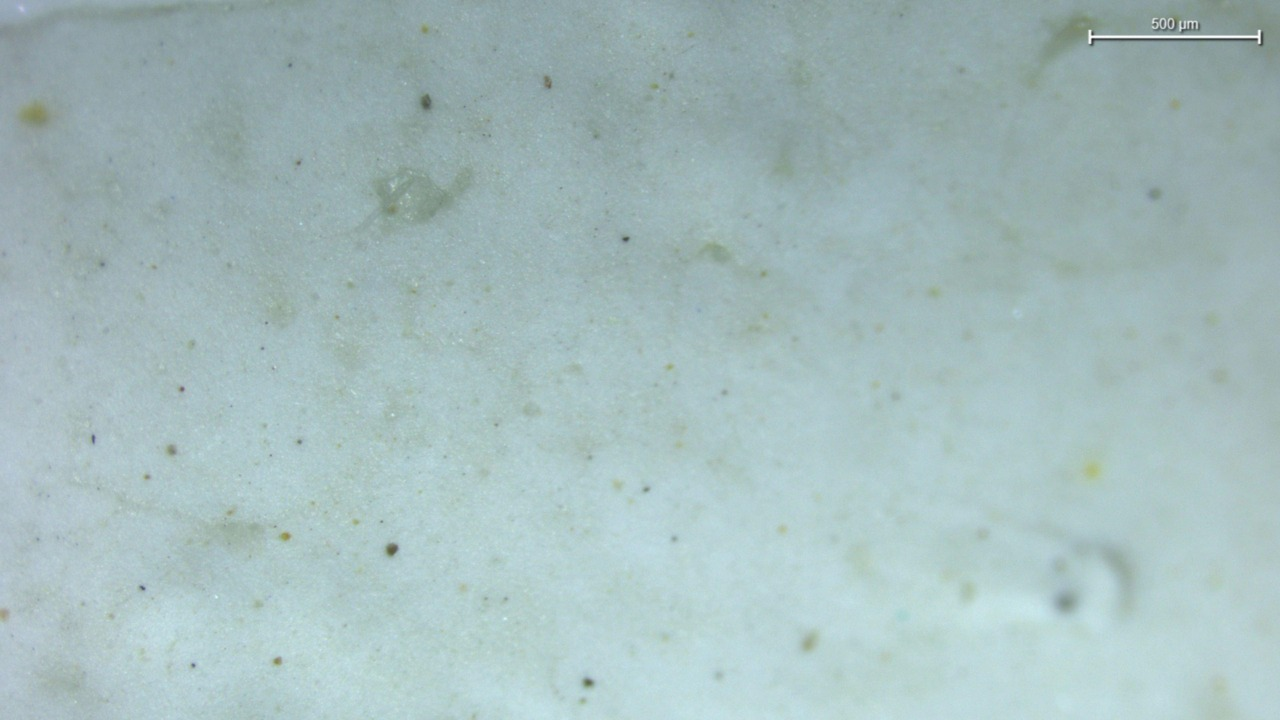microplastic_fragment: (375, 166, 470, 224)
